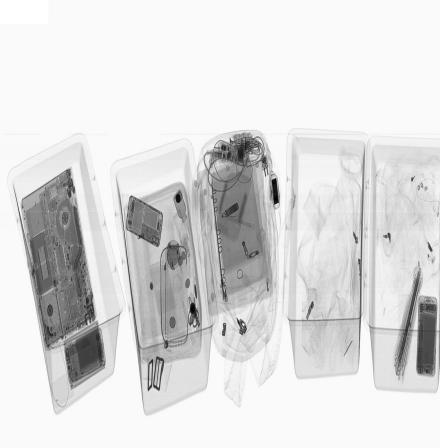Powerbank: (64, 327, 106, 388)
